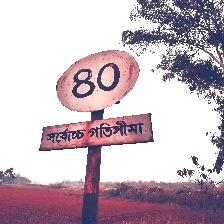Speed-limit: (40, 48, 152, 151)
